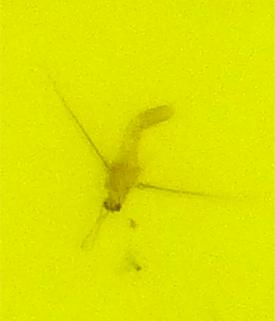Ephemeroptera: (100, 100, 175, 221)
